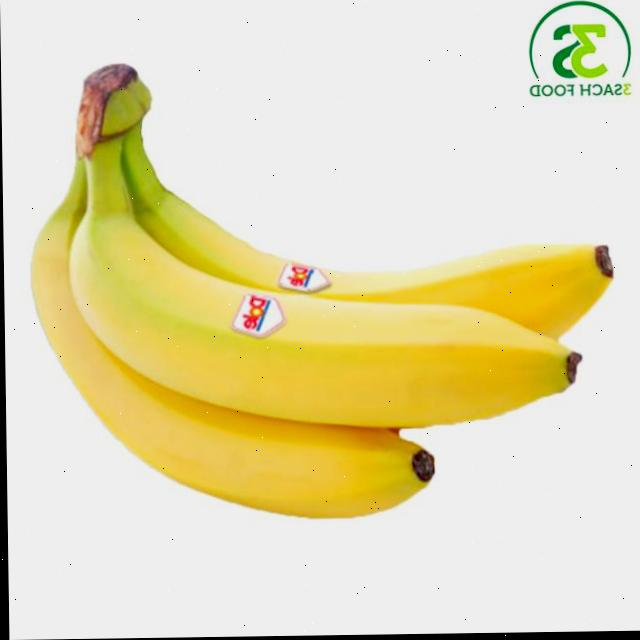banana: (21, 45, 613, 579)
